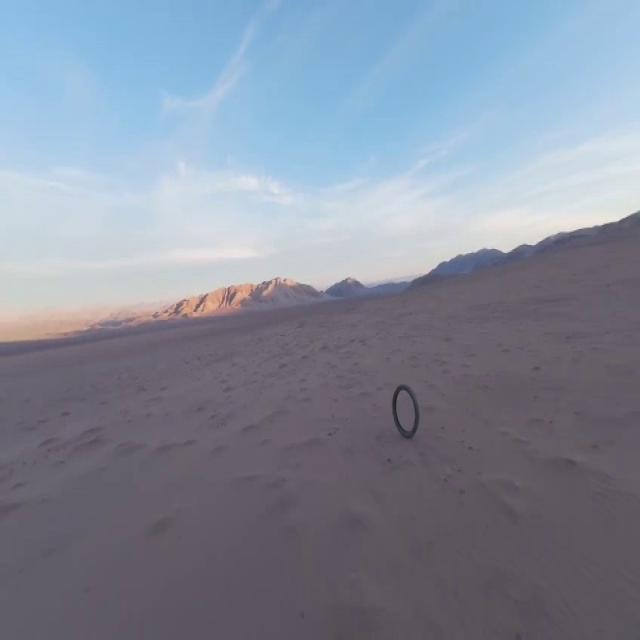Tire: (392, 384, 419, 438)
